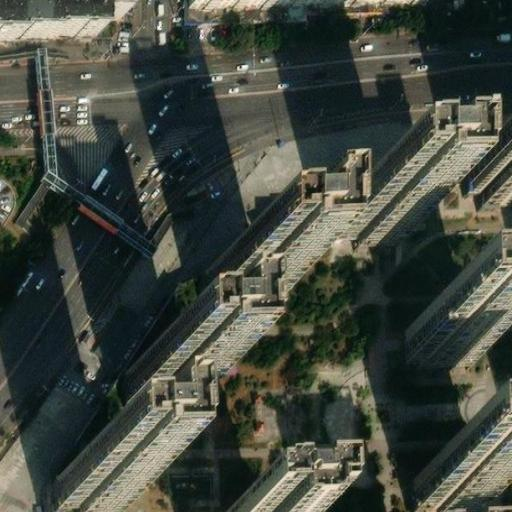building: (58, 275, 199, 469), (207, 239, 273, 298), (403, 301, 469, 359), (127, 341, 193, 399), (58, 451, 123, 509), (416, 449, 481, 506), (337, 195, 401, 240), (465, 157, 512, 196)
